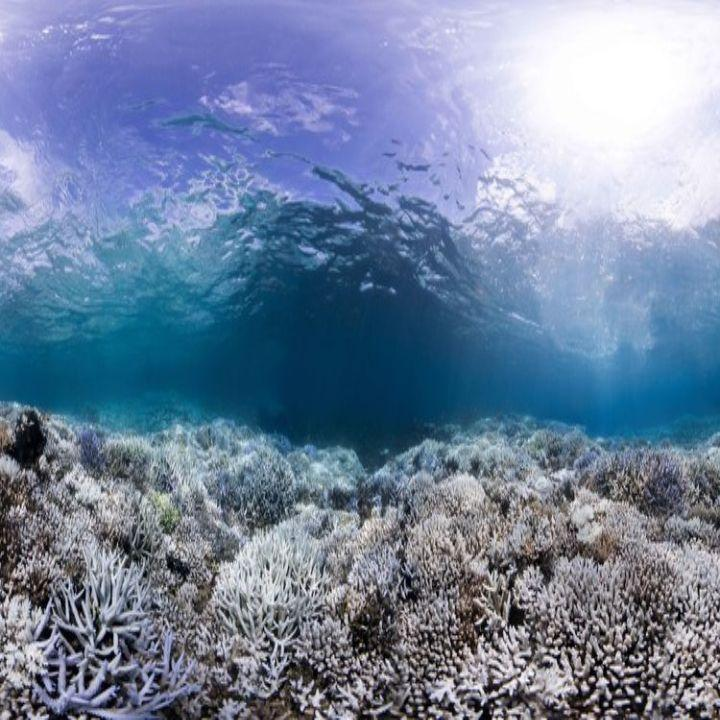Bleached-disease: (0, 361, 312, 624), (0, 537, 204, 720)
